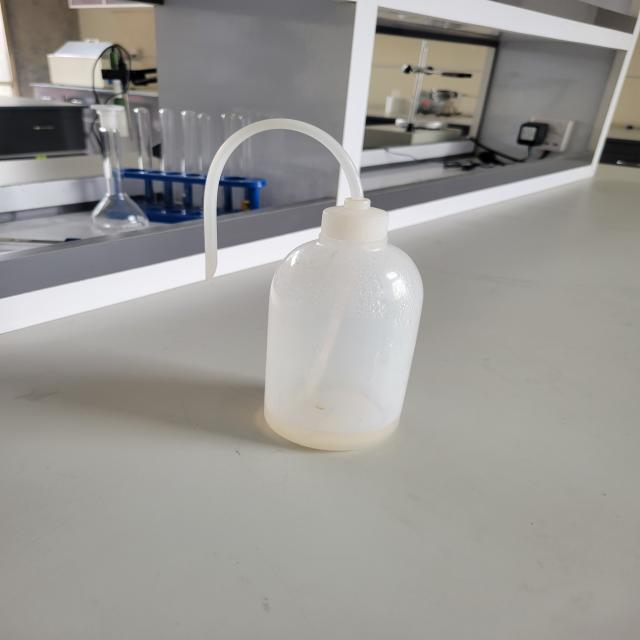Wash_Bottle: (147, 96, 500, 510)
